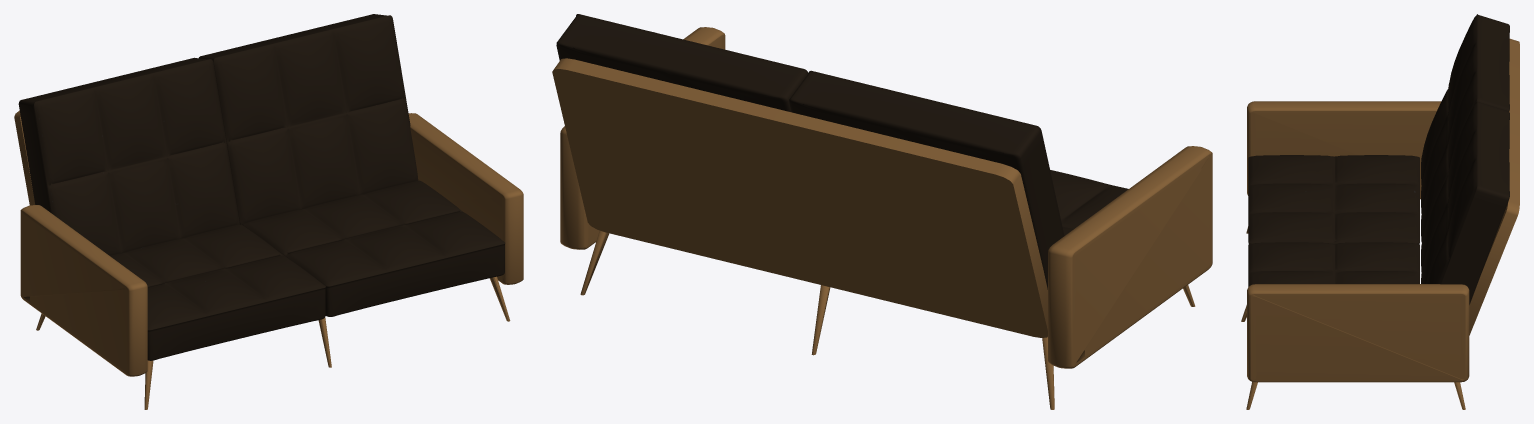
The model's file is SofaNegro.fbx.
3 renders of one model, left to right at view 1: azimuth 30°, elevation 25°; view 2: azimuth 150°, elevation 25°; view 3: azimuth 270°, elevation 25°, orthographic. The views are drawn at different scales.
Visible parts, largest first — view 1: patas.001; view 2: patas.001; view 3: patas.001.
Part boxes in pixels (left/top/right/bottom): patas.001: left=14, top=14, right=523, bottom=409; patas.001: left=552, top=14, right=1212, bottom=409; patas.001: left=1241, top=14, right=1519, bottom=409.
Bounding box in the file's own units: 211 × 113 × 129.
